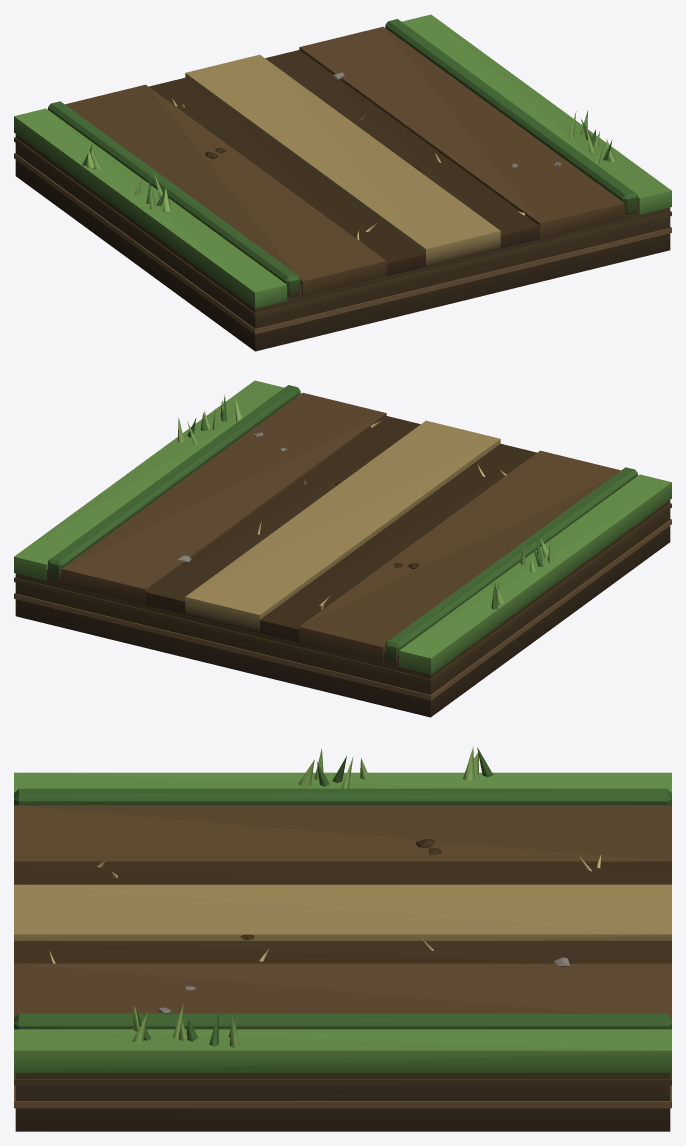
The model's file is track-straight.glb.
3 views of the same model, one above another, from view 1: azimuth 30°, elevation 25°; view 2: azimuth 150°, elevation 25°; view 3: azimuth 270°, elevation 25° (orthographic). The views are drawn at different scales.
Visible parts, largest first — view 1: track_straight; view 2: track_straight; view 3: track_straight.
Boxes of the visible parts, x1=… form: track_straight: x1=14, y1=14, x2=671, y2=351; track_straight: x1=14, y1=380, x2=671, y2=717; track_straight: x1=14, y1=747, x2=671, y2=1131.
Size of the model in its own units: 4.02 by 0.7704 by 4.02.
